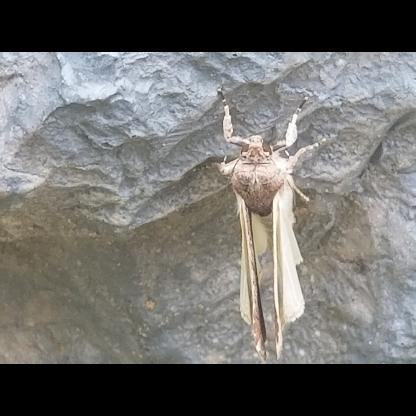Fall Armyworm Moth: (190, 84, 341, 364)
